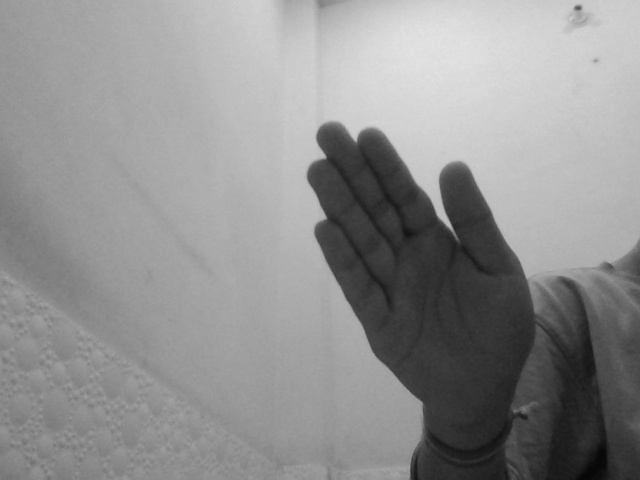Hello: (304, 117, 538, 420)
